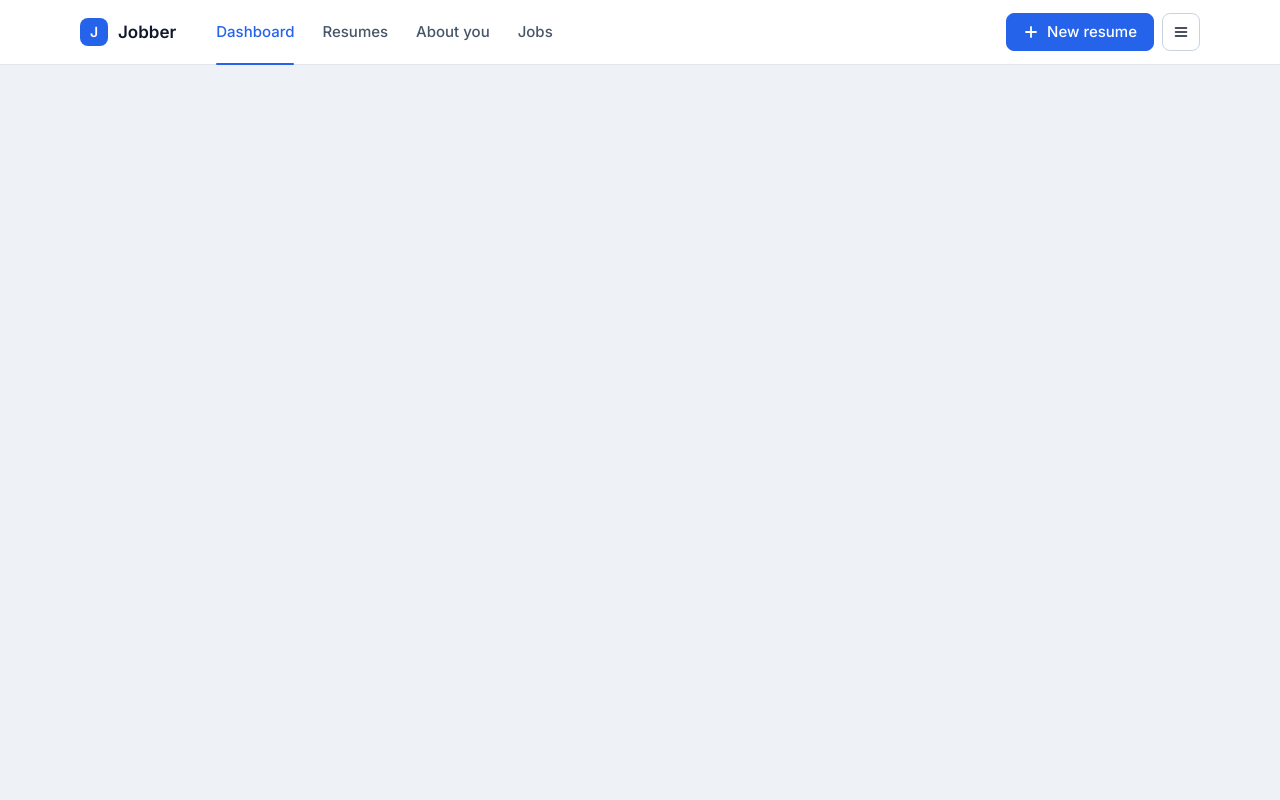
Test: header and menu slider › runs a search from the menu and shows the result
Click the button named "Open menu". click: [1181, 32]
box: [1162, 13, 1200, 51]
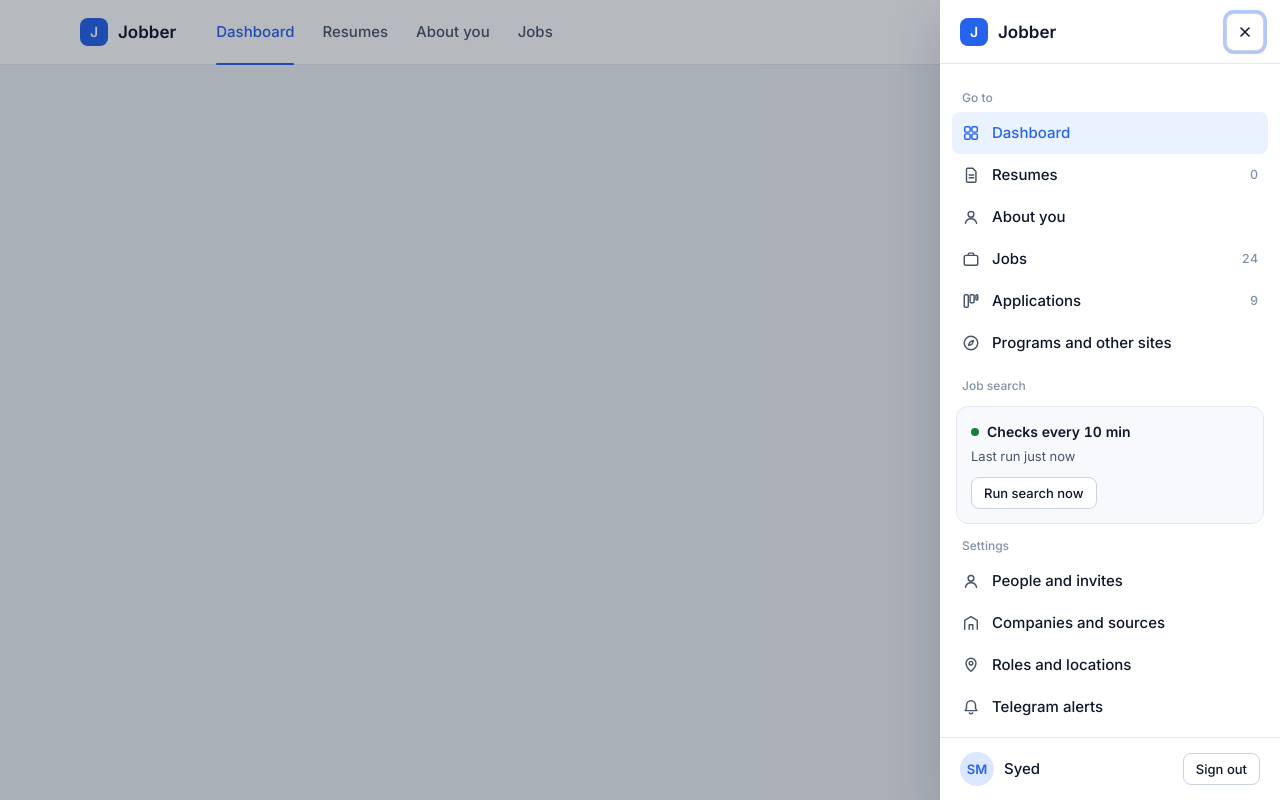
Click the button "Run search now". click: [1034, 493]
box: [971, 477, 1096, 509]
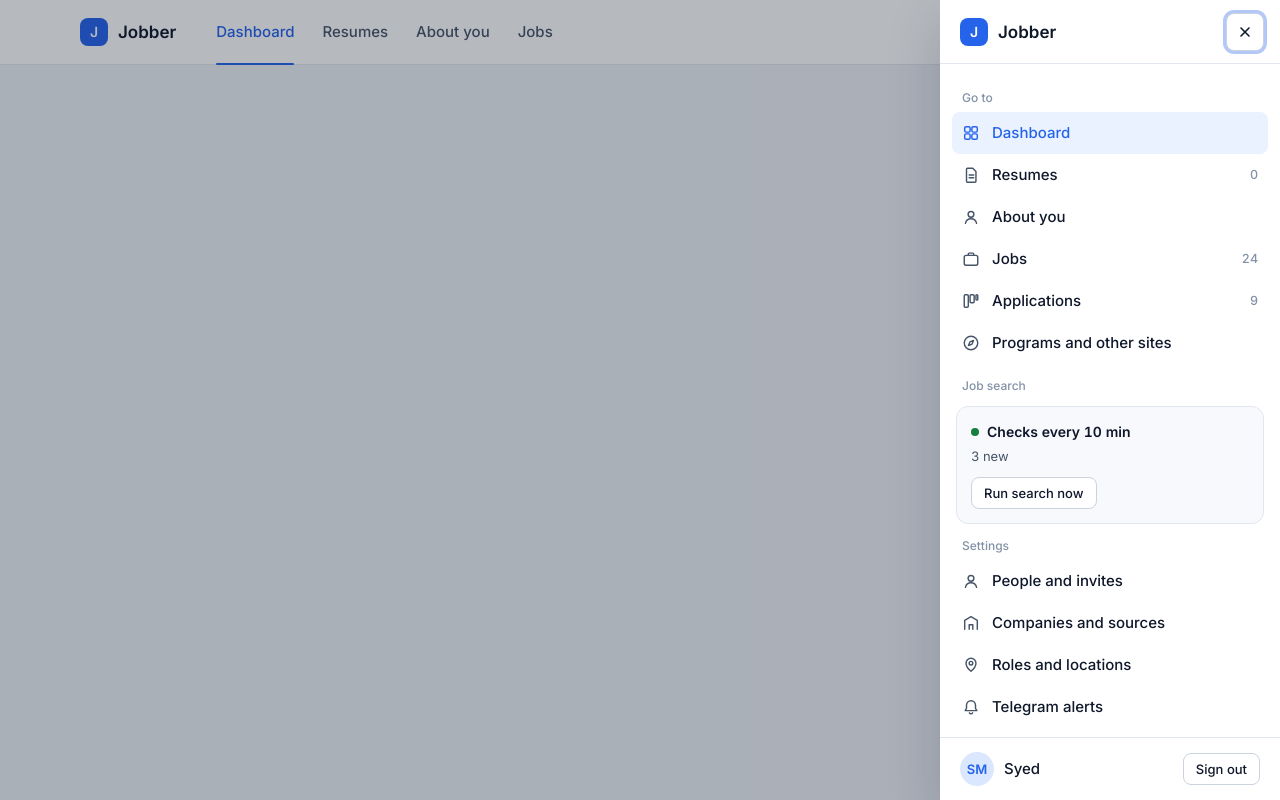
Check: the text "3 new" is shown, box [971, 448, 1009, 464]
